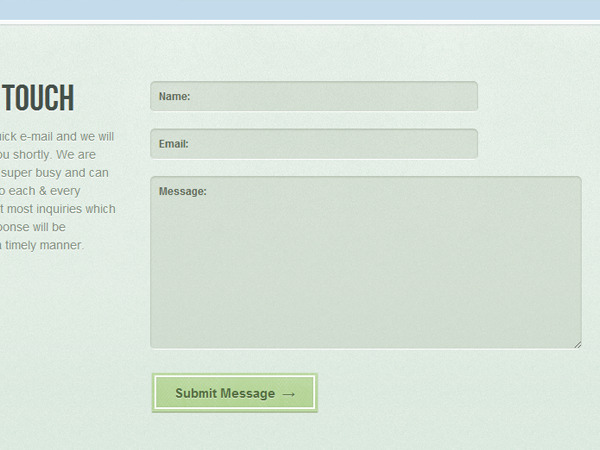_form_: (143, 12, 559, 428)
button: (150, 371, 319, 414)
field: (148, 175, 582, 350), (149, 127, 479, 161), (149, 80, 479, 112)
